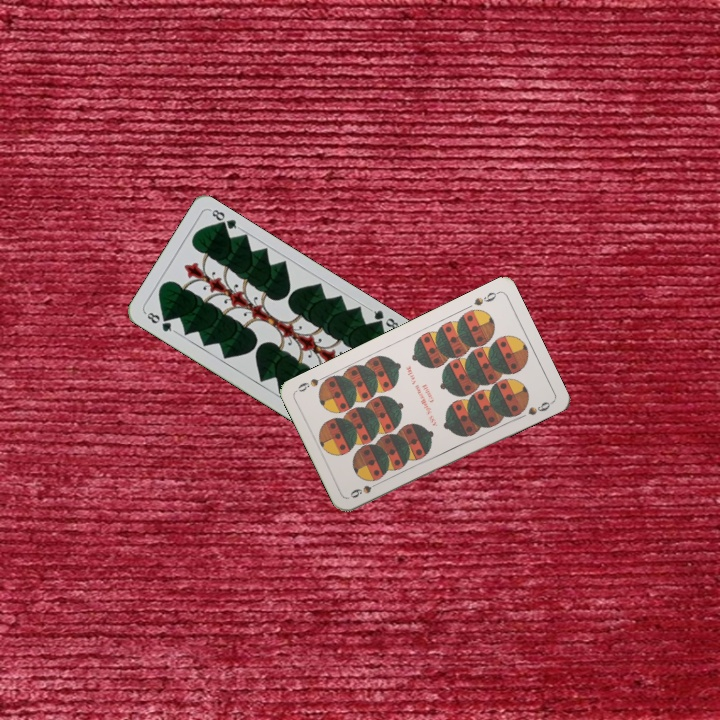G8: (141, 308, 178, 335), (366, 305, 403, 332)
S9: (346, 477, 384, 501), (470, 287, 501, 309)
